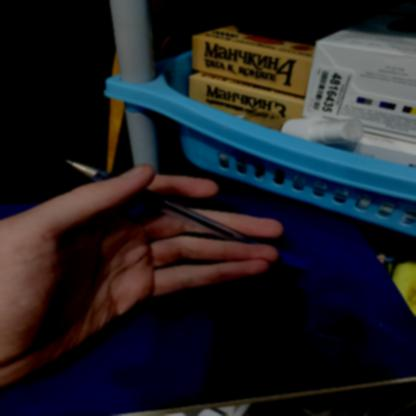pen: (64, 154, 352, 308)
